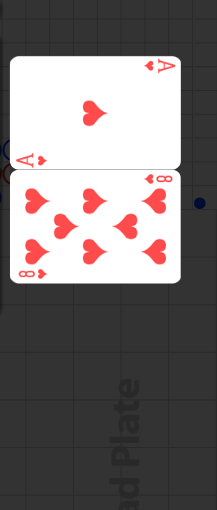8H: (18, 267, 49, 280)
AH: (141, 58, 176, 75)
